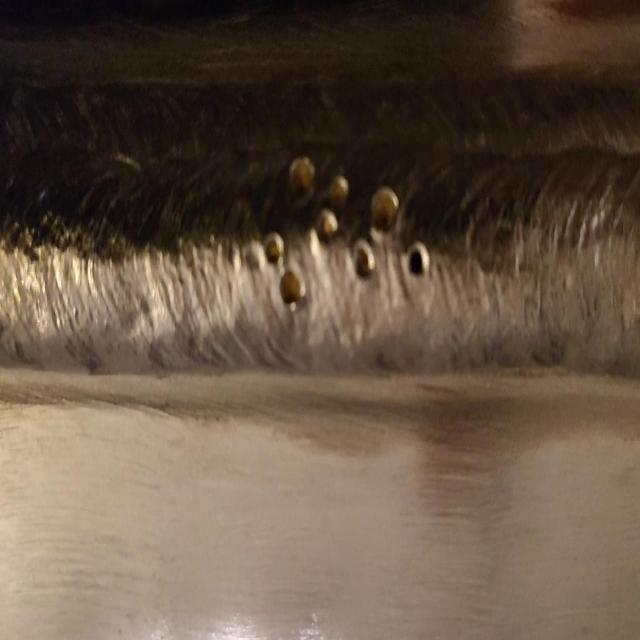Welding Line: (2, 97, 640, 367)
porosity: (243, 154, 431, 306)
